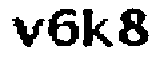6: (46, 7, 82, 49)
8: (116, 6, 151, 47)
k: (82, 7, 113, 51)
v: (7, 14, 43, 49)
